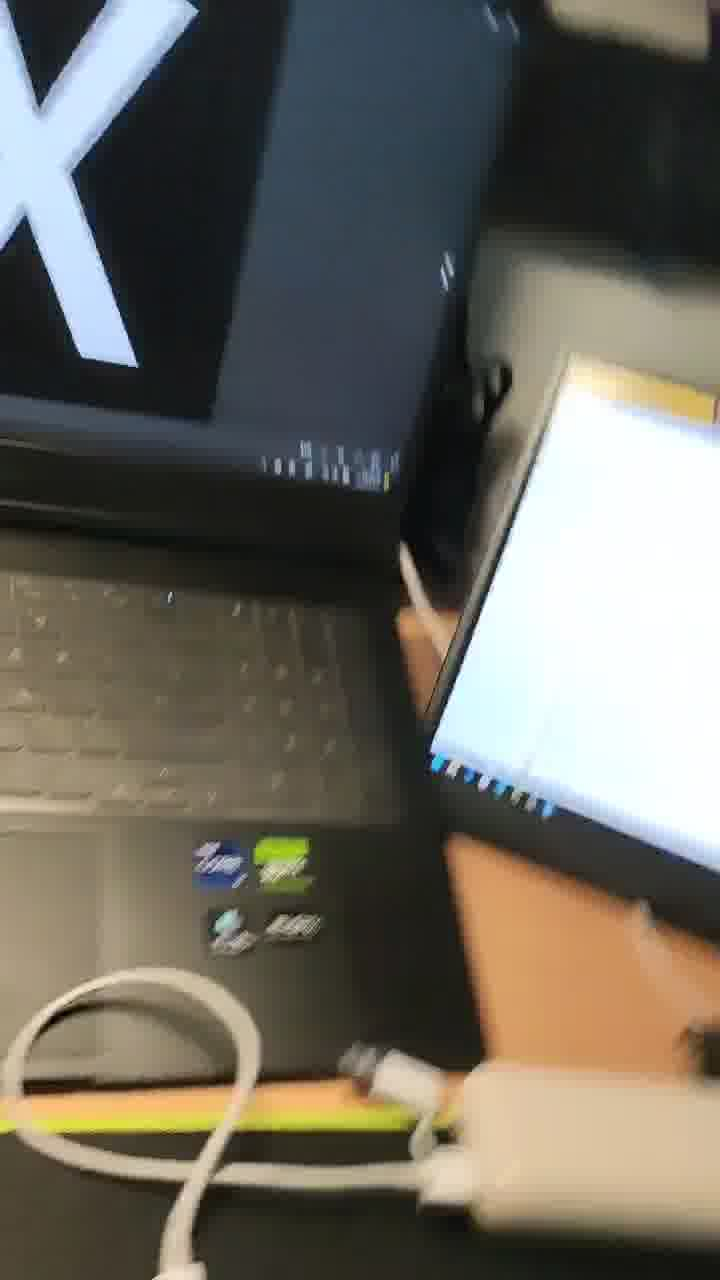X: (1, 1, 344, 579)
